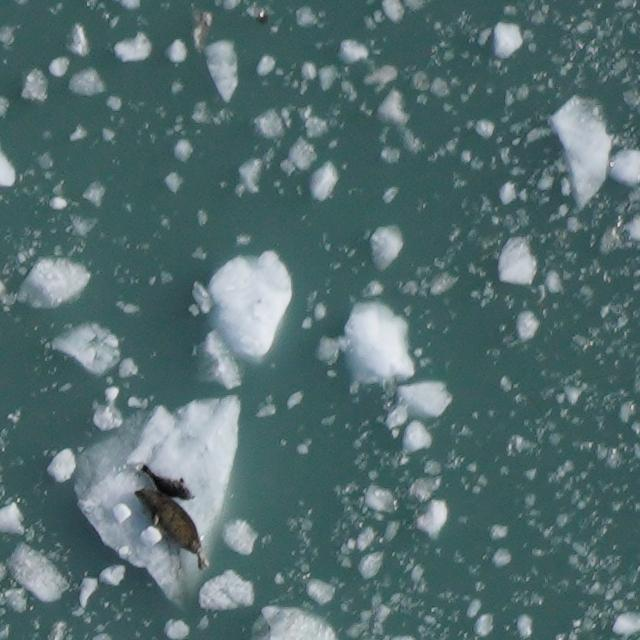seal: (130, 483, 214, 576), (137, 463, 201, 503)
